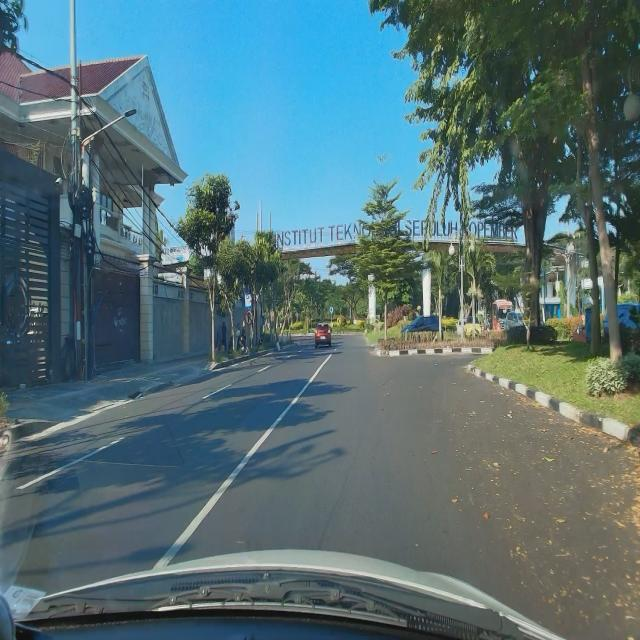car: (314, 323, 332, 349)
